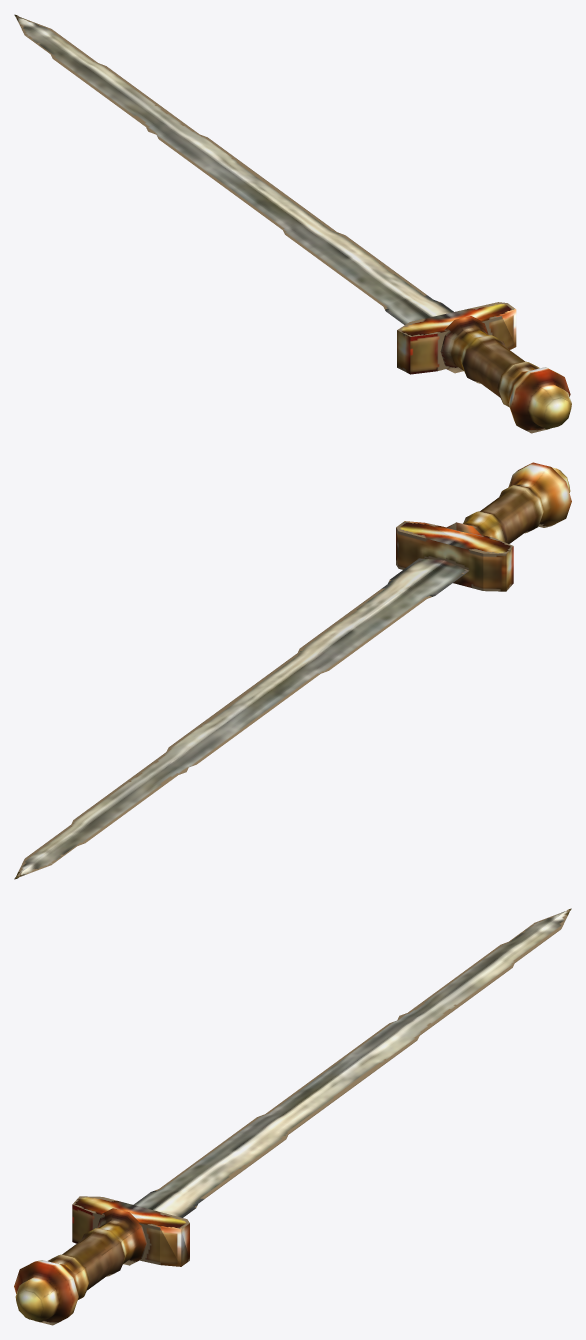
Rendered from item_mm9_10015.glb.
The picture shows the model from 3 angles, top to bottom: view 1: azimuth 30°, elevation 25°; view 2: azimuth 150°, elevation 25°; view 3: azimuth 330°, elevation 25°; orthographic projection.
Visible parts, largest first — view 1: d10015; view 2: d10015; view 3: d10015.
Part boxes in pixels (bbox=[...]): d10015: bbox=[14, 14, 571, 433]; d10015: bbox=[14, 462, 571, 879]; d10015: bbox=[14, 908, 571, 1325].
Size of the model in its own units: 16.6 by 8.53 by 142.
Materials: 1 (1 with a texture image).
